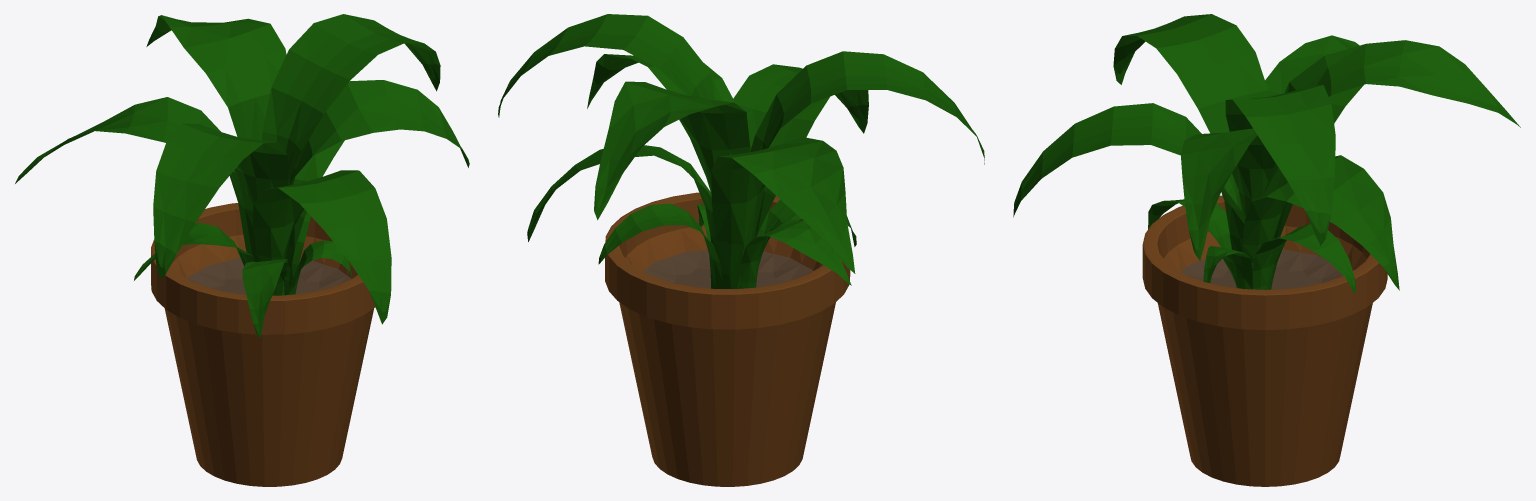
The model's file is maceta.obj.
3 views of the same model, side by side, from view 1: azimuth 30°, elevation 25°; view 2: azimuth 150°, elevation 25°; view 3: azimuth 270°, elevation 25° (orthographic). The views are drawn at different scales.
Parts seen in each view (by area): view 1: leaf.001_Plane, maceta_Cylinder, leaf_Plane.010; view 2: leaf.001_Plane, maceta_Cylinder, leaf_Plane.010; view 3: leaf.001_Plane, maceta_Cylinder, leaf_Plane.010.
Part boxes in pixels (x1,y1,x2,y2): leaf.001_Plane: [15, 14, 469, 338]; maceta_Cylinder: [151, 203, 375, 486]; leaf_Plane.010: [15, 15, 469, 336]; leaf.001_Plane: [498, 14, 984, 288]; maceta_Cylinder: [605, 192, 850, 486]; leaf_Plane.010: [499, 14, 984, 288]; leaf.001_Plane: [1013, 14, 1520, 294]; maceta_Cylinder: [1142, 195, 1387, 486]; leaf_Plane.010: [1014, 14, 1516, 289].
Size of the model in its own units: 0.5866 by 0.5777 by 0.6523.
